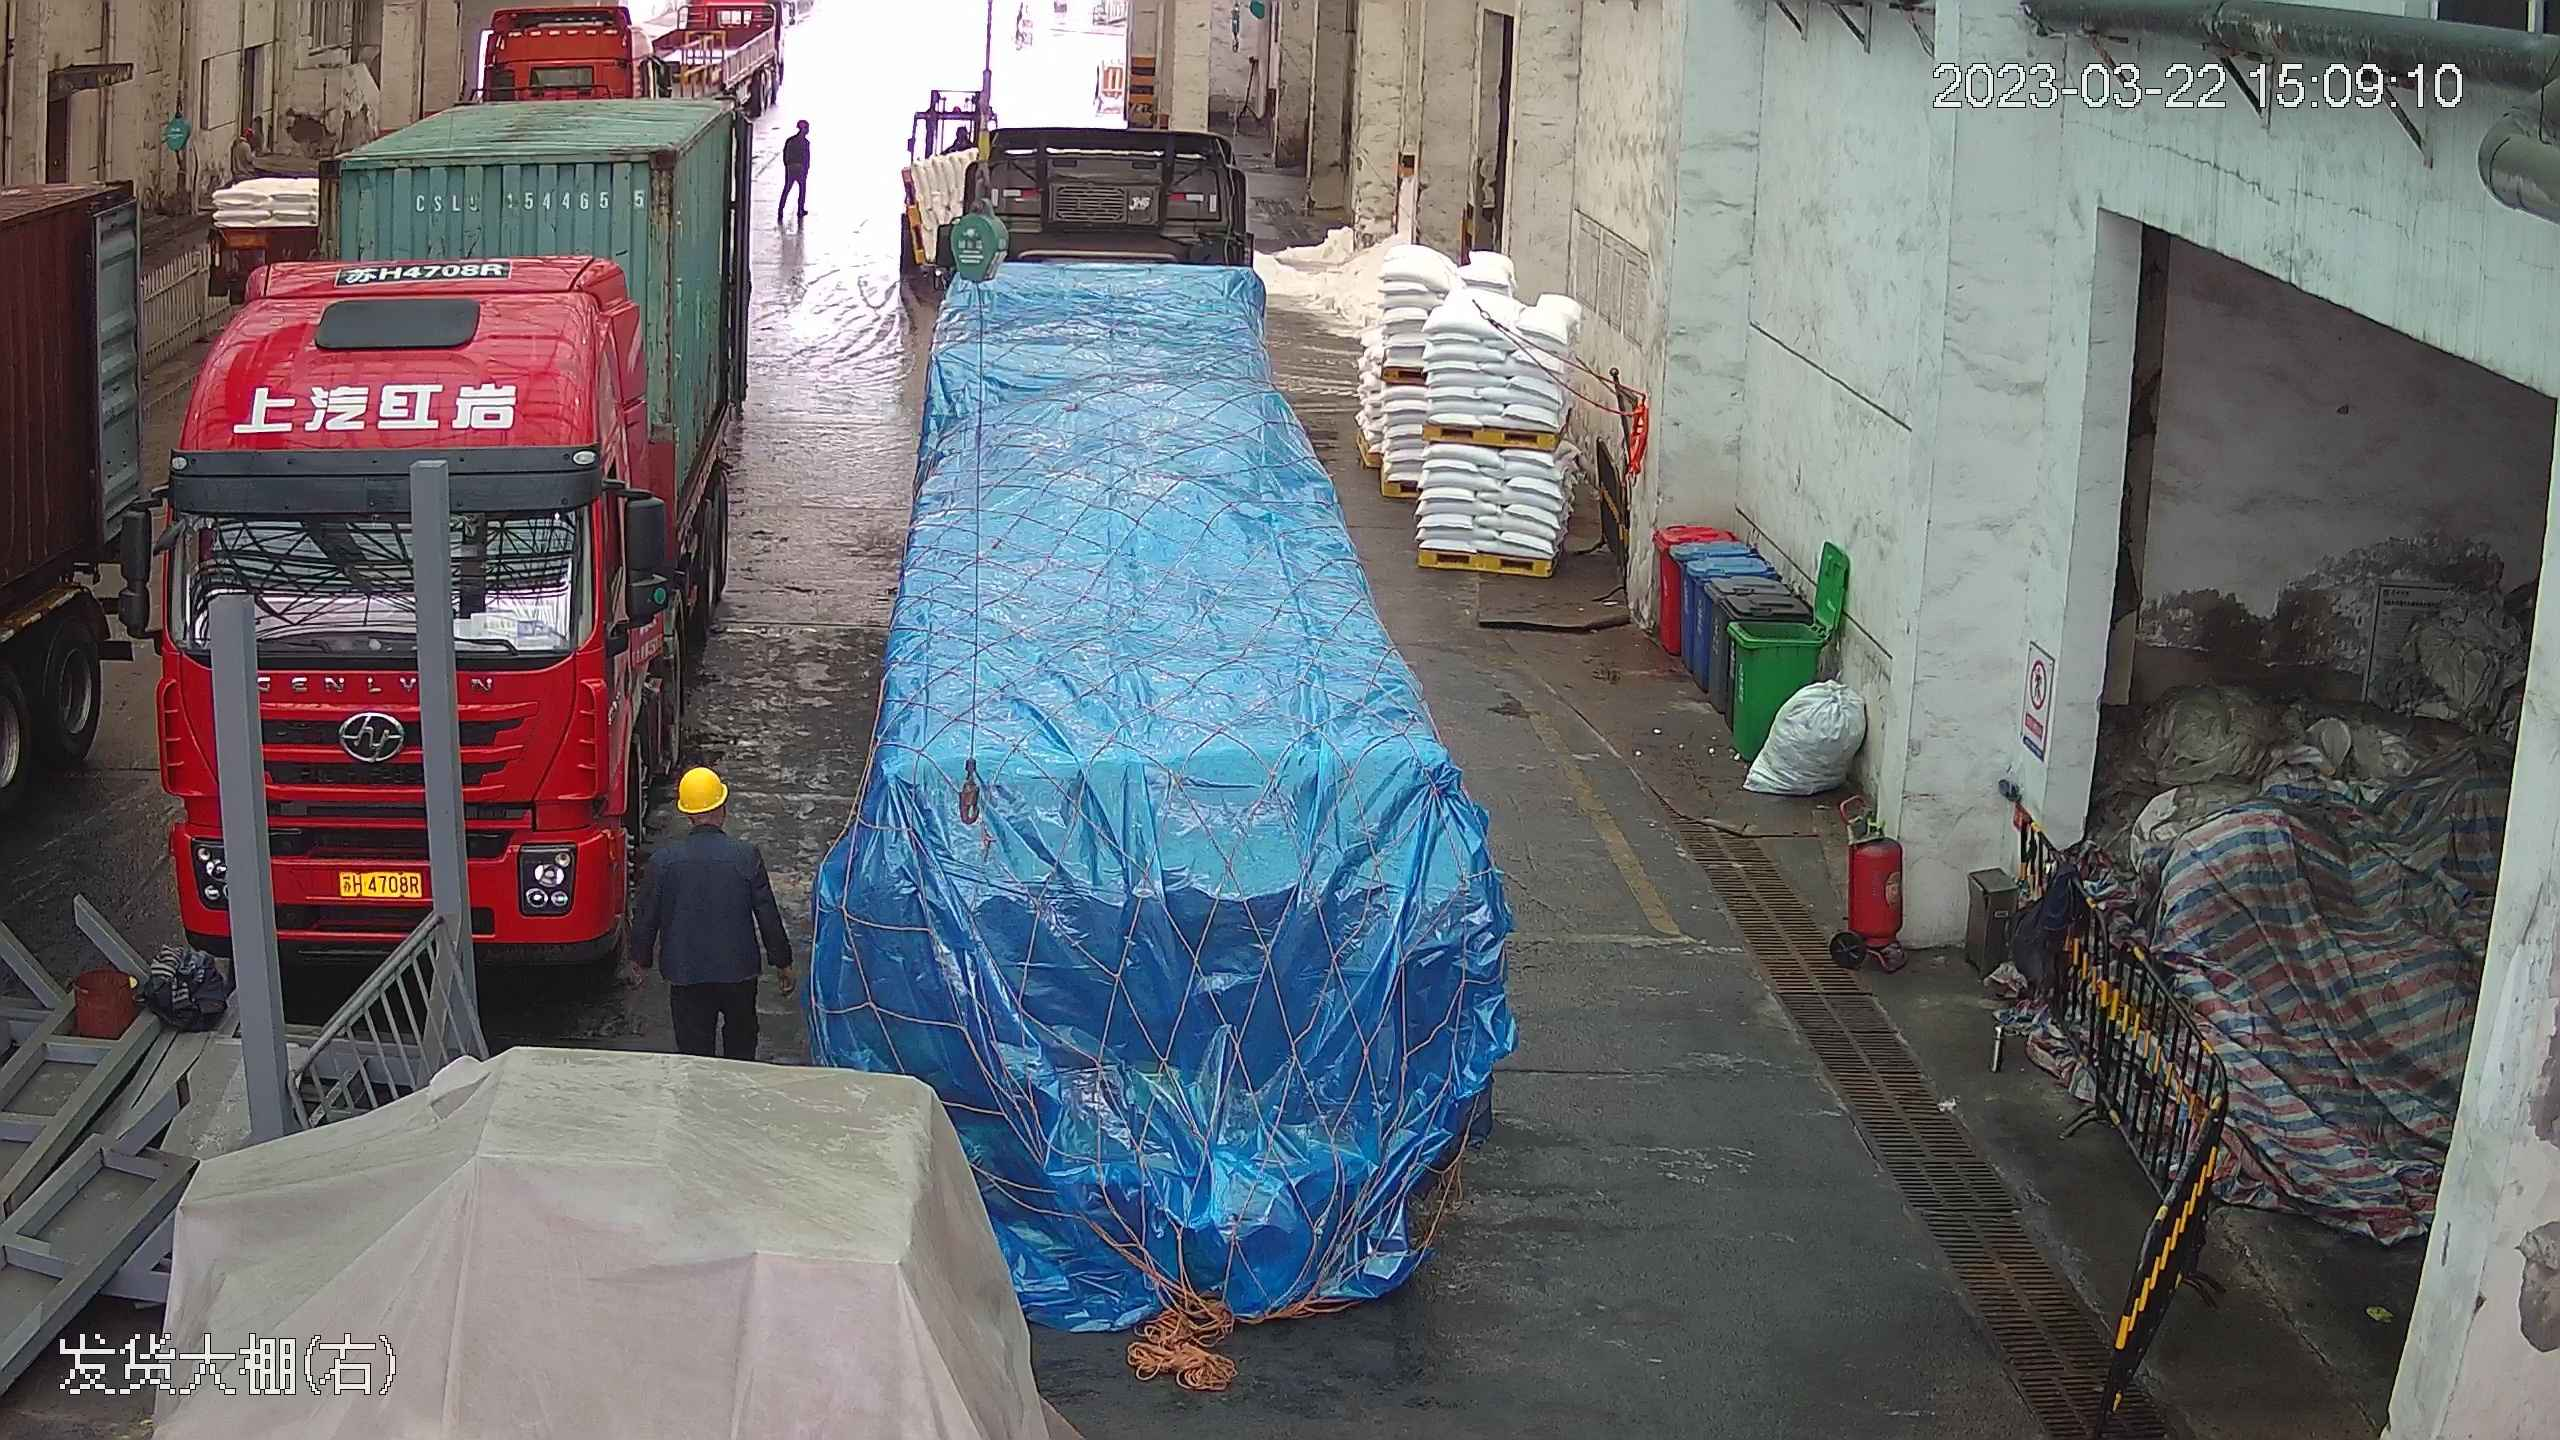head: (657, 763, 767, 886), (782, 106, 813, 149)
helmet: (673, 764, 729, 810), (797, 120, 809, 130)
people: (646, 762, 787, 1063), (775, 94, 811, 261)
truck: (834, 32, 1581, 1367), (140, 13, 768, 962), (2, 135, 160, 1030)
